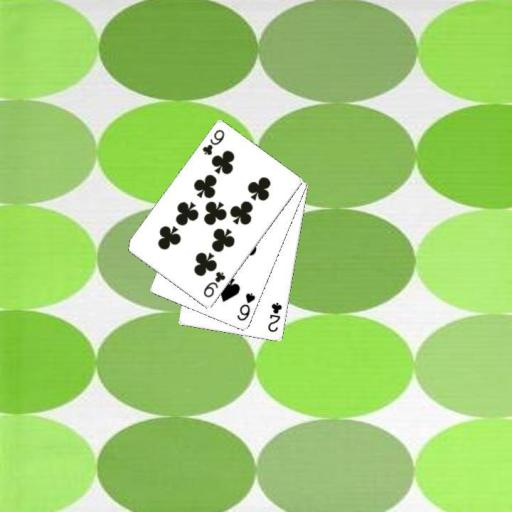2C: (265, 300, 284, 334)
6S: (234, 290, 257, 323)
9C: (200, 269, 227, 299), (199, 127, 226, 157)
